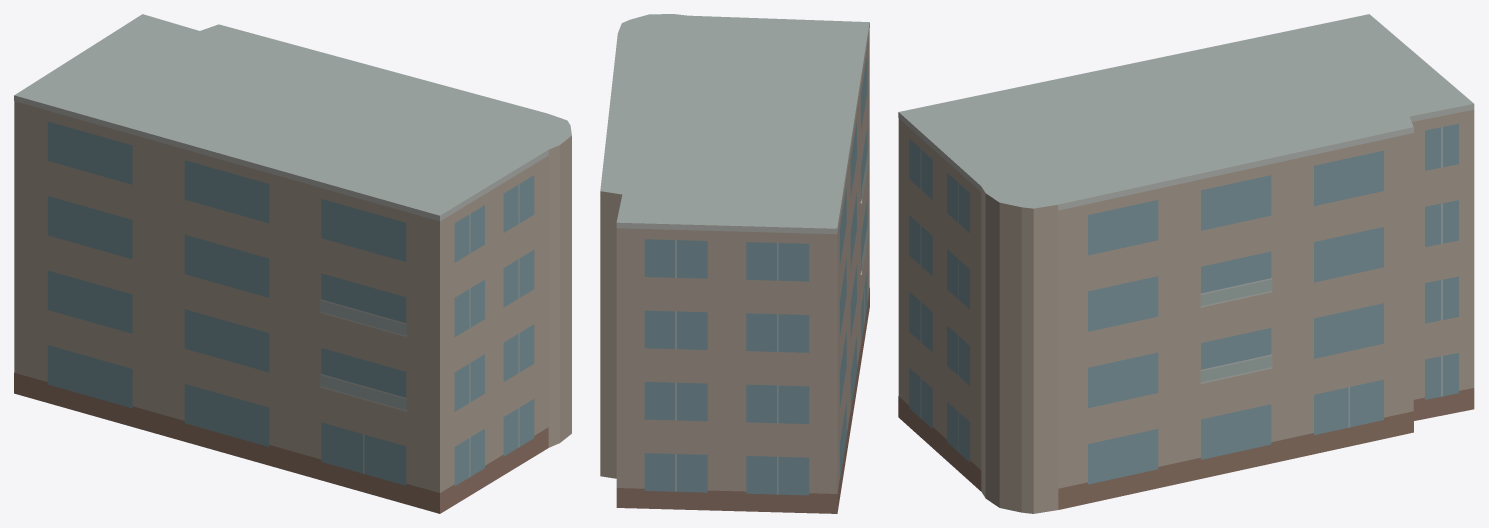
File: survey-upis-32493689.glb
3 views of the same model, side by side, from view 1: azimuth 30°, elevation 25°; view 2: azimuth 150°, elevation 25°; view 3: azimuth 270°, elevation 25° (orthographic). The views are drawn at different scales.
Visible parts, largest first — view 1: survey-upis-32493689.tmp; view 2: survey-upis-32493689.tmp; view 3: survey-upis-32493689.tmp.
Boxes of the visible parts, <box> form: survey-upis-32493689.tmp: <box>14,14,571,513</box>; survey-upis-32493689.tmp: <box>600,14,869,513</box>; survey-upis-32493689.tmp: <box>898,14,1474,513</box>.
Size of the model in its own units: 17.36 by 12.7 by 21.71.
